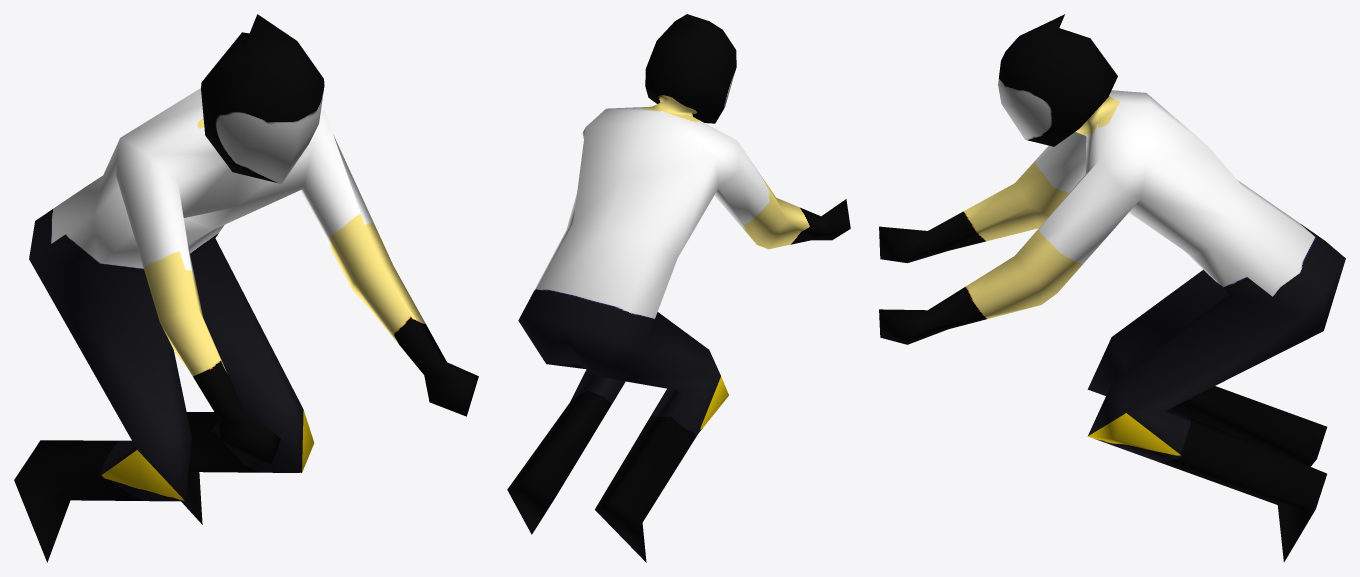
File: rider.obj
The picture shows the model from 3 angles, left to right: view 1: azimuth 30°, elevation 25°; view 2: azimuth 150°, elevation 25°; view 3: azimuth 270°, elevation 25°; orthographic projection. The views are drawn at different scales.
Visible parts, largest first — view 1: Cube; view 2: Cube; view 3: Cube.
Boxes of the visible parts, x1,y1,x2,y2 form: Cube: [14, 14, 478, 562]; Cube: [507, 14, 850, 562]; Cube: [879, 14, 1345, 562].
Size of the model in its own units: 3.27 by 7.58 by 6.2.
